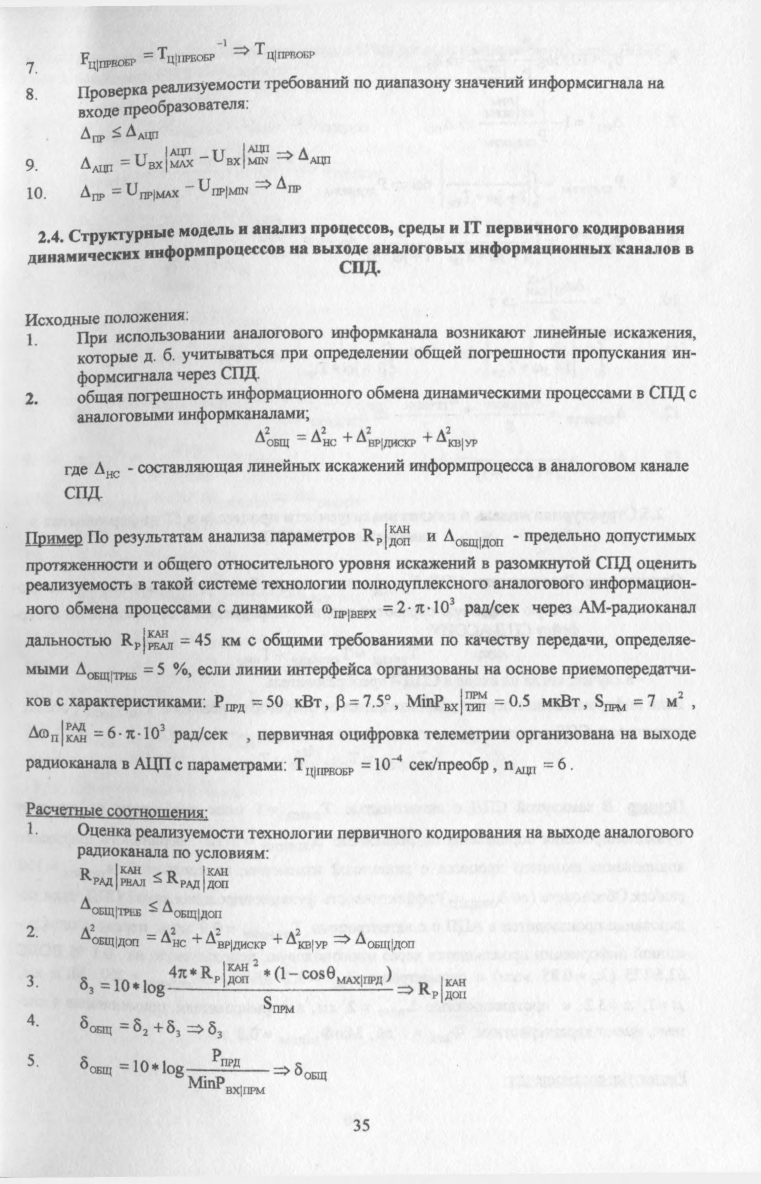P.вх.прм: (217, 1075, 266, 1095)
P.прд: (207, 1042, 244, 1067)
R.р.кан.доп: (200, 952, 250, 987)
S.прм: (261, 995, 305, 1014)
U.пр.max: (125, 177, 180, 203)
U.пр.min: (197, 174, 247, 200)
Δ.вр.дискр: (207, 935, 267, 947)
Δ.кв.ур: (285, 937, 331, 950)
Δ.нс: (162, 933, 188, 948)
Δ.общ.доп: (79, 929, 146, 952)
Δ.пр: (76, 182, 105, 201)
δ.2: (132, 1014, 149, 1038)
δ.3: (76, 969, 97, 1000), (165, 1013, 182, 1039)
δ.общ: (75, 1051, 117, 1080), (76, 1012, 117, 1039)
θ.max.прд: (326, 958, 385, 988)
